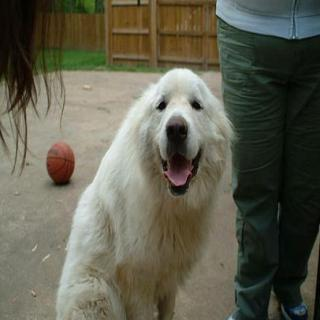dog: (132, 72, 232, 208)
nose: (161, 114, 193, 142)
